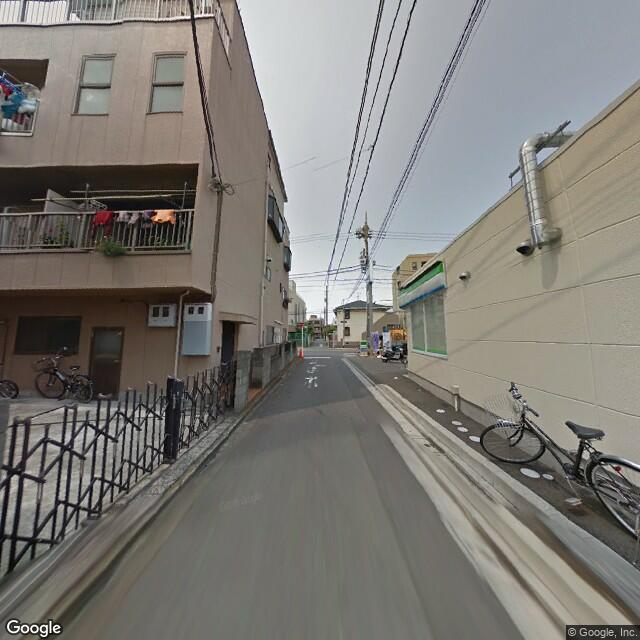family_mart: (396, 257, 447, 312)
